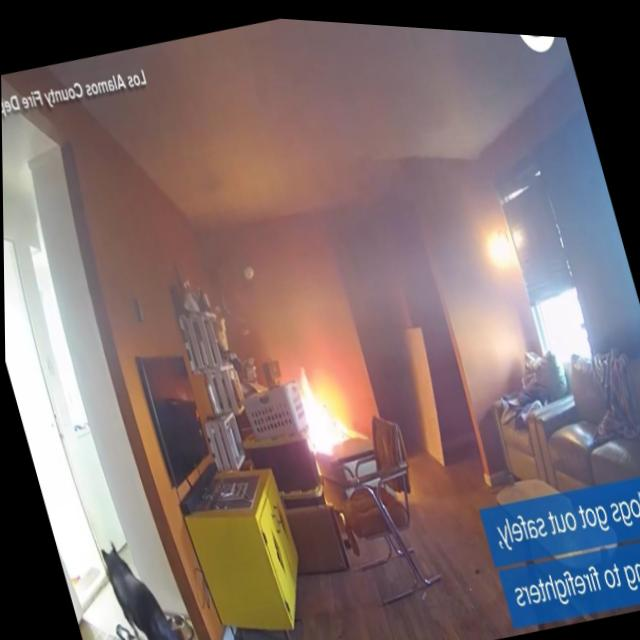fire: (284, 342, 358, 458)
